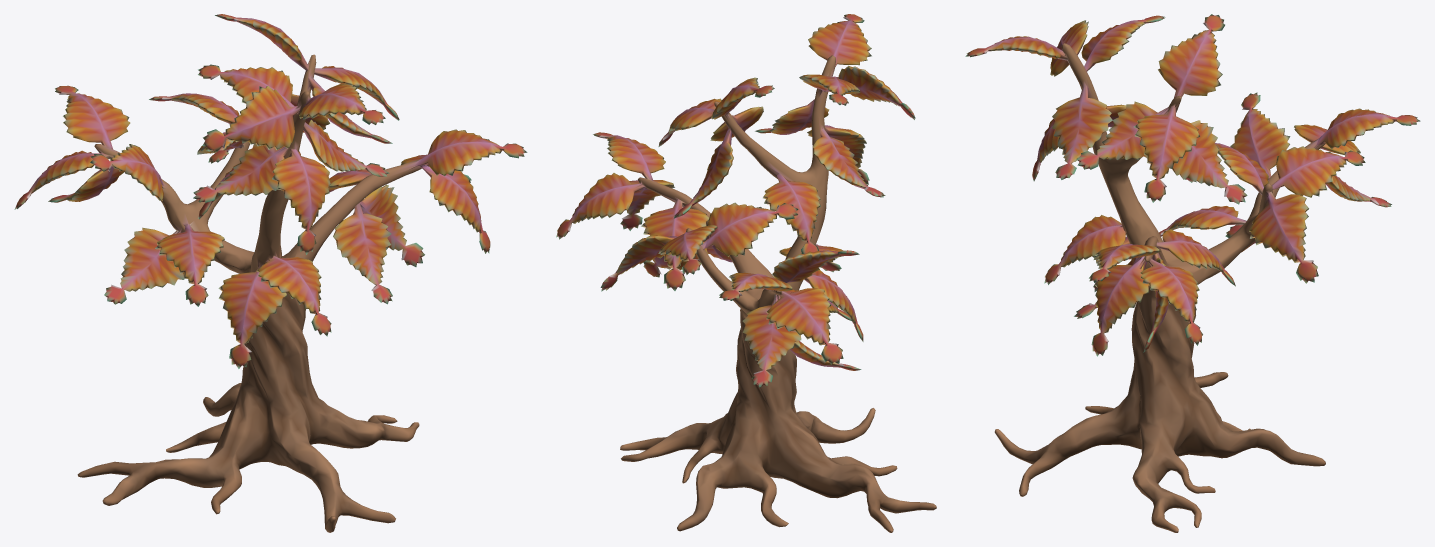
The model's file is SM_shrub_02.fbx.
The picture shows the model from 3 angles, left to right: view 1: azimuth 30°, elevation 25°; view 2: azimuth 150°, elevation 25°; view 3: azimuth 270°, elevation 25°; orthographic projection. The views are drawn at different scales.
Visible parts, largest first — view 1: SM_Bush; view 2: SM_Bush; view 3: SM_Bush.
Boxes of the visible parts, bbox=[...] form: SM_Bush: bbox=[14, 14, 527, 532]; SM_Bush: bbox=[556, 14, 936, 532]; SM_Bush: bbox=[965, 14, 1420, 532].
Size of the model in its own units: 79.61 by 87.99 by 81.48.
